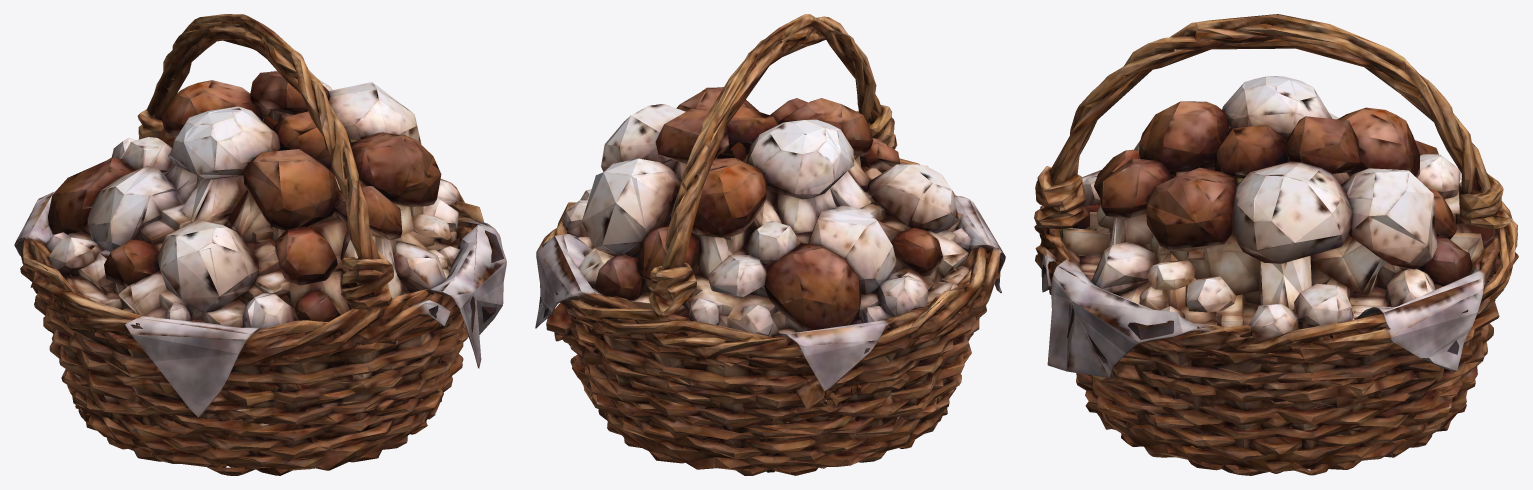
The model's file is dress-mushroom-basket.glb.
3 views of the same model, side by side, from view 1: azimuth 30°, elevation 25°; view 2: azimuth 150°, elevation 25°; view 3: azimuth 270°, elevation 25° (orthographic). The views are drawn at different scales.
Size of the model in its own units: 0.9908 by 0.8972 by 0.9991.
1 material, 1 textured.
